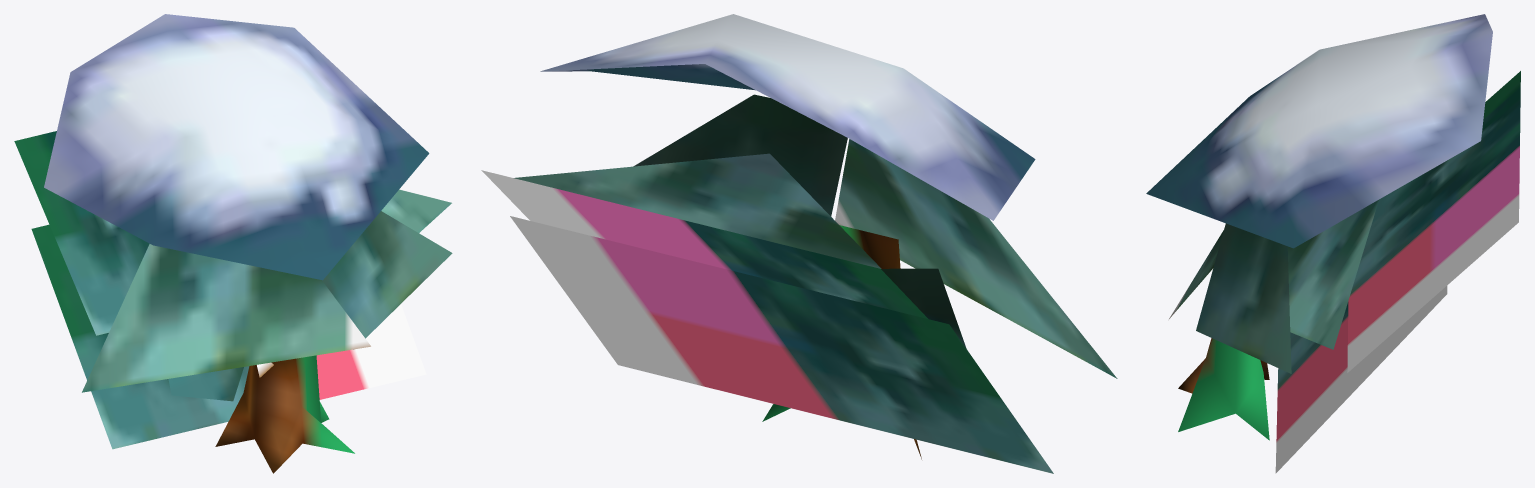
The model's file is fg_bushA_1.dae.
3 renders of one model, left to right at view 1: azimuth 30°, elevation 25°; view 2: azimuth 150°, elevation 25°; view 3: azimuth 270°, elevation 25°, orthographic. The views are drawn at different scales.
Visible parts, largest first — view 1: fg_bushA_1; view 2: fg_bushA_1; view 3: fg_bushA_1.
Boxes of the visible parts, x1,y1,x2,y2 form: fg_bushA_1: (14, 14, 452, 473); fg_bushA_1: (481, 14, 1117, 473); fg_bushA_1: (1146, 14, 1520, 473).
Bounding box in the file's own units: 35.43 × 29.02 × 26.23.
1 material, 1 textured.
